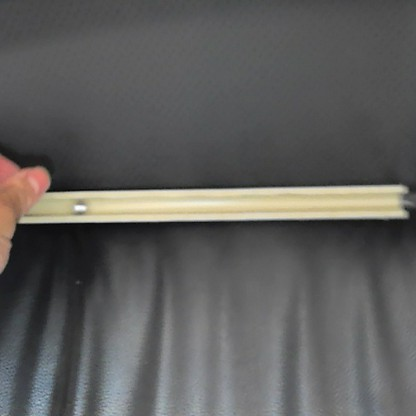ironball: (70, 197, 89, 216)
